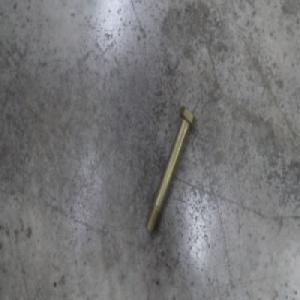Bolt: (144, 104, 196, 235)
